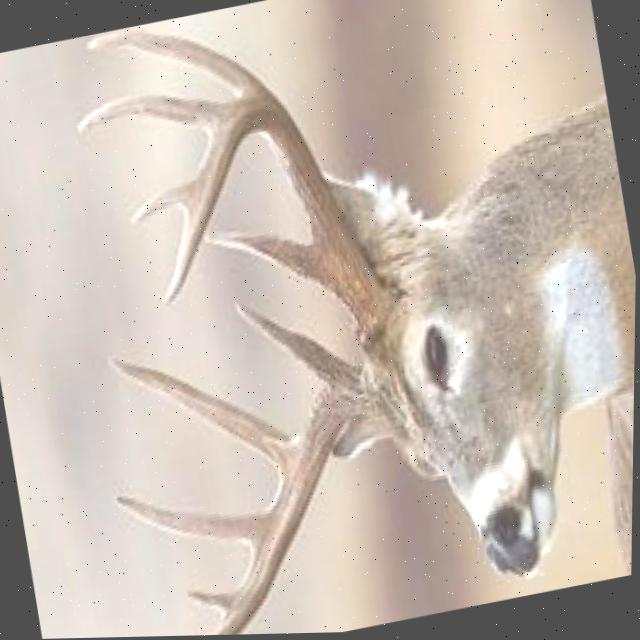E1: (132, 179, 196, 223)
L-F: (161, 92, 404, 344)
L-G1: (206, 231, 330, 291)
L-G2: (84, 27, 272, 97)
L-G3: (77, 93, 227, 134)
R-G1: (236, 303, 344, 383)
R-G2: (111, 358, 294, 473)
R-G3: (117, 496, 262, 540)
